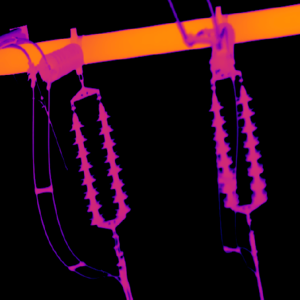insulator: (237, 83, 266, 193), (96, 103, 127, 205), (70, 111, 99, 212), (210, 90, 236, 194), (37, 41, 83, 82)
